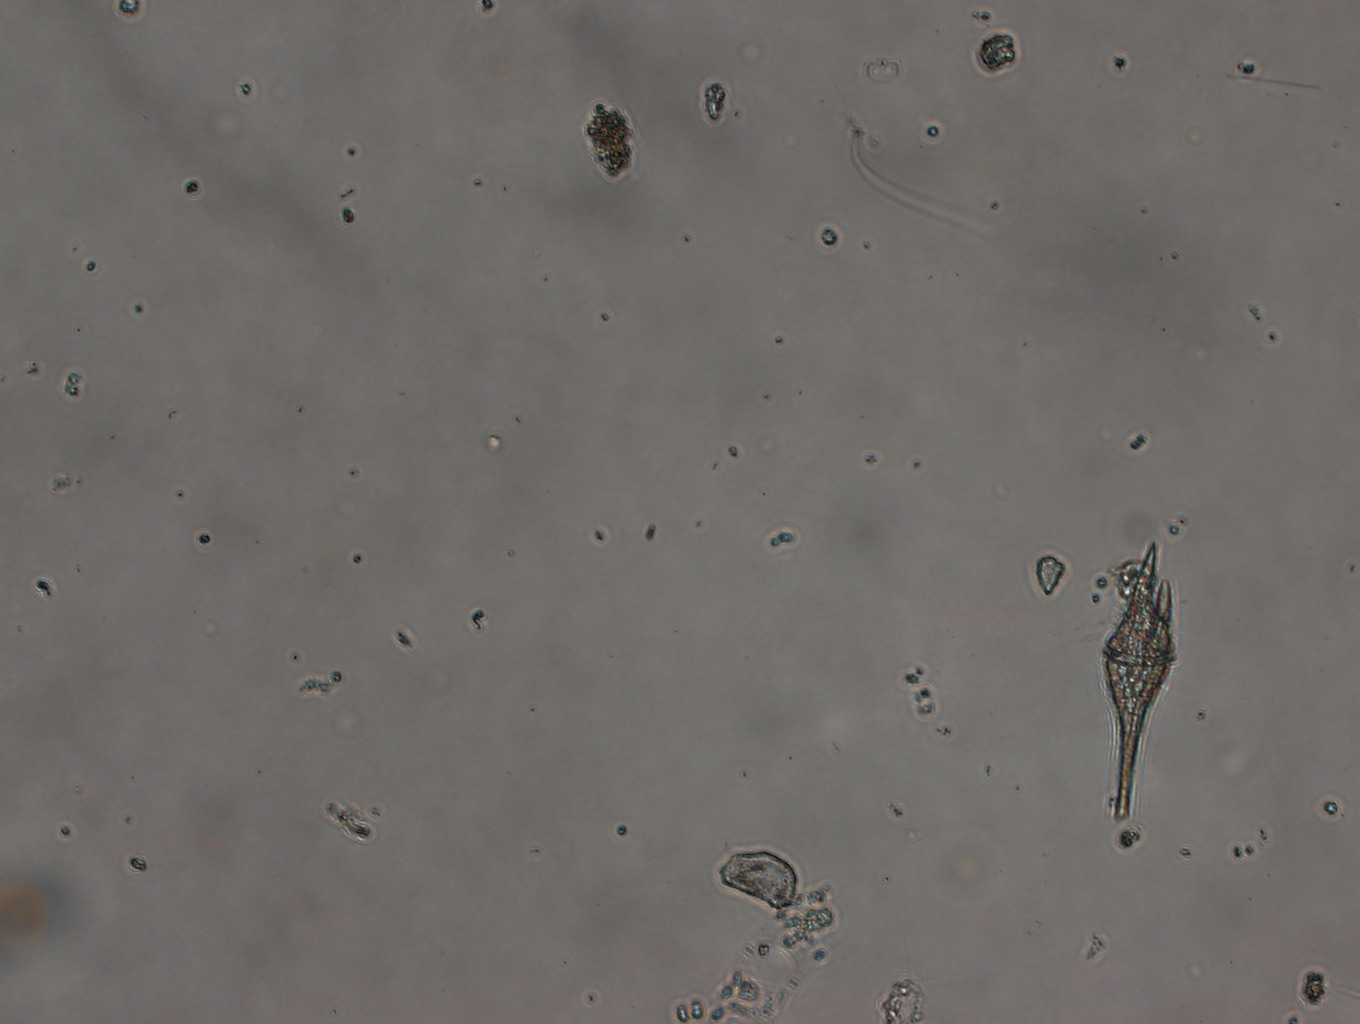ceratium furca: (1102, 543, 1178, 819)
